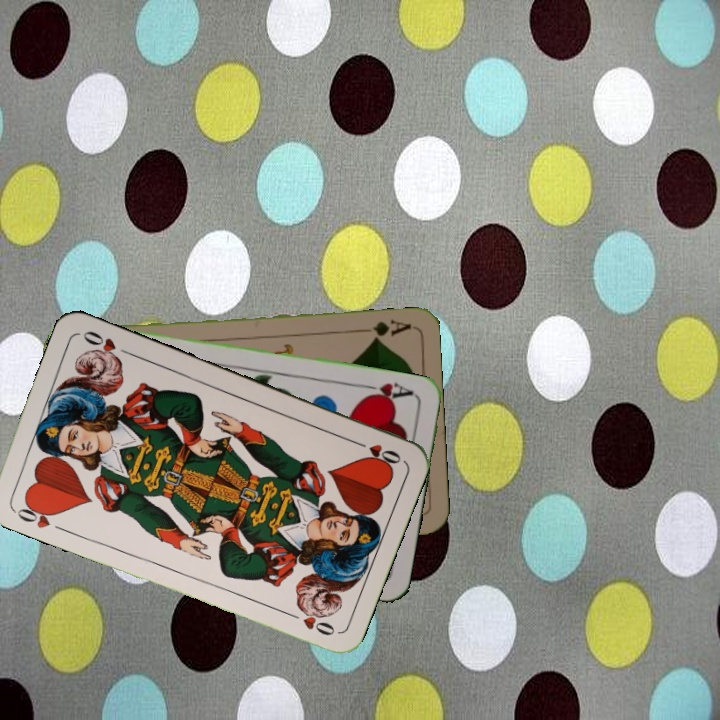GA: (354, 315, 413, 343)
HA: (359, 378, 416, 405)
HO: (348, 436, 404, 469), (9, 497, 61, 531)
